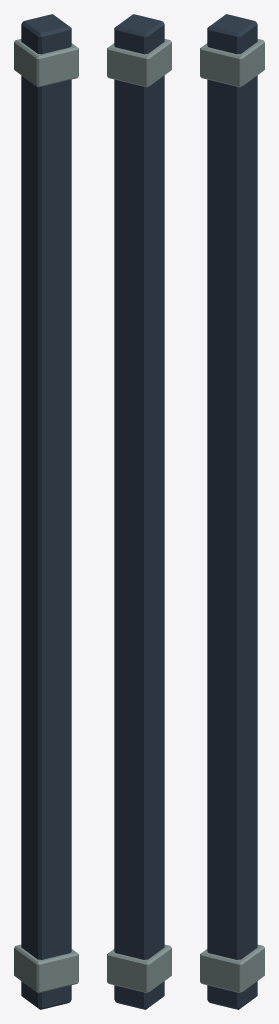
Rendered from glass_corner_post.glb.
3 renders of one model, left to right at view 1: azimuth 30°, elevation 25°; view 2: azimuth 150°, elevation 25°; view 3: azimuth 330°, elevation 25°, orthographic.
Parts seen in each view (by area): view 1: glass_corner_post__metal, glass_corner_post__metal_light; view 2: glass_corner_post__metal, glass_corner_post__metal_light; view 3: glass_corner_post__metal, glass_corner_post__metal_light.
Boxes of the visible parts, x1=… form: glass_corner_post__metal: x1=21, y1=14, x2=71, y2=1009; glass_corner_post__metal_light: x1=14, y1=39, x2=78, y2=993; glass_corner_post__metal: x1=114, y1=14, x2=164, y2=1009; glass_corner_post__metal_light: x1=107, y1=39, x2=171, y2=993; glass_corner_post__metal: x1=207, y1=14, x2=257, y2=1009; glass_corner_post__metal_light: x1=200, y1=39, x2=264, y2=993.
Bounding box in the file's own units: 0.1 × 2.2 × 0.1.
